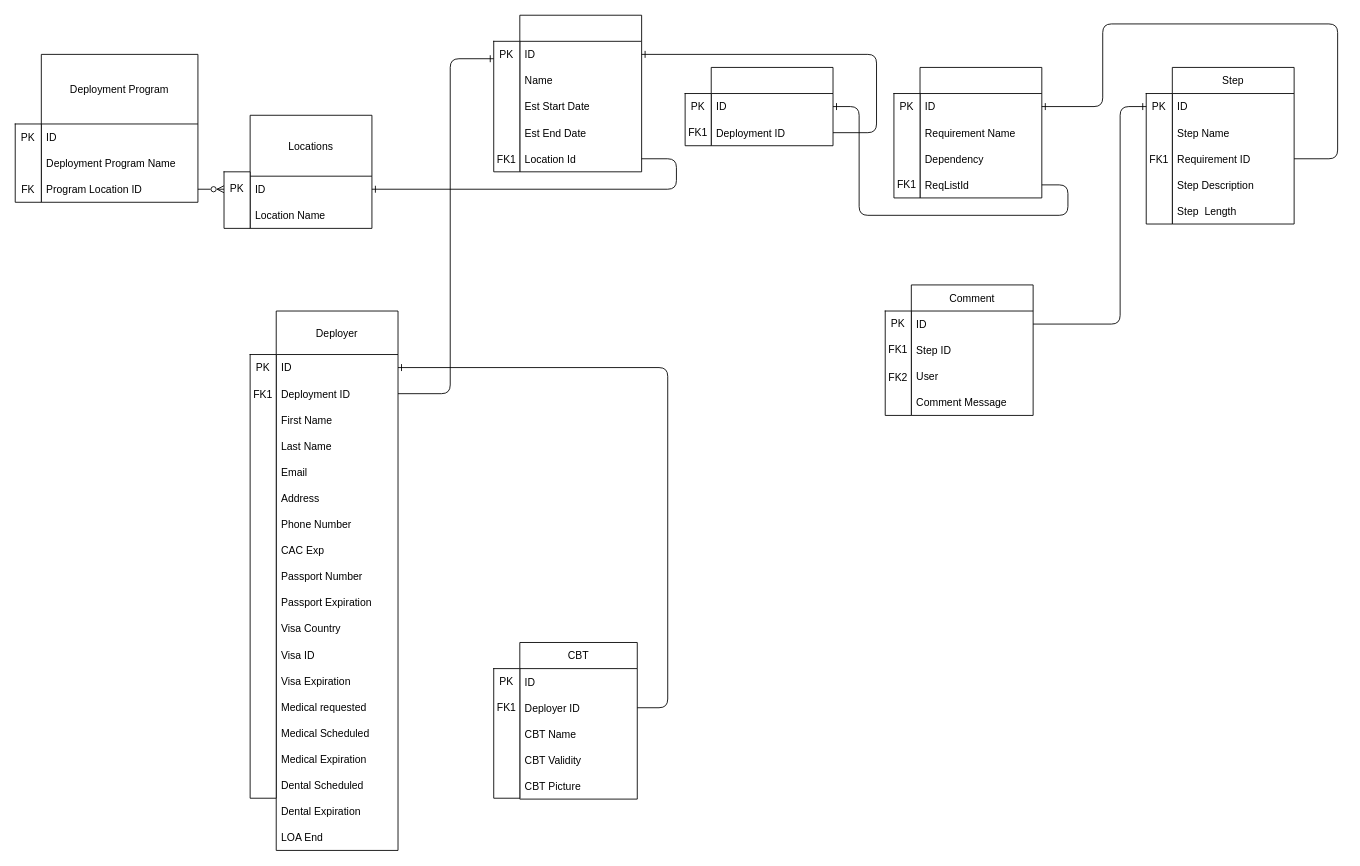
Some shapes in this 1360 by 866 pixel diagram are drawn without their labels. Here are the shapes that lost their labels. From the top down, the box of each, then its label:
(519, 14, 642, 172): Deployment
(710, 67, 833, 146): Requirements List
(919, 67, 1042, 198): Requirements
